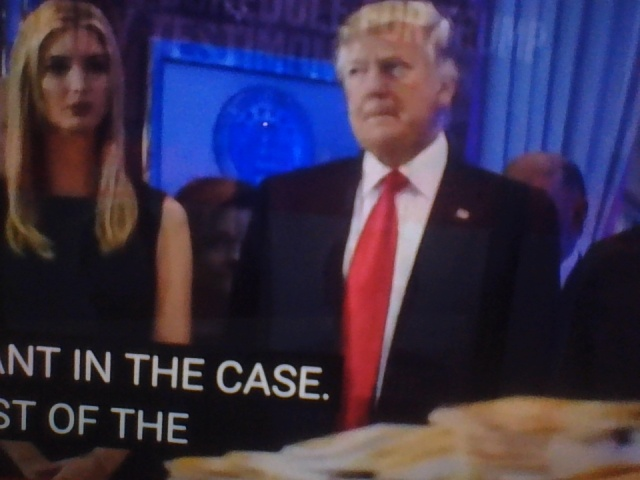fake: (330, 0, 460, 185), (19, 0, 135, 164)
